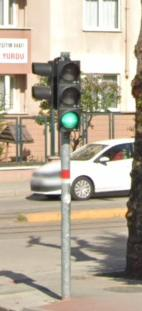greenlight: (55, 59, 85, 132)
